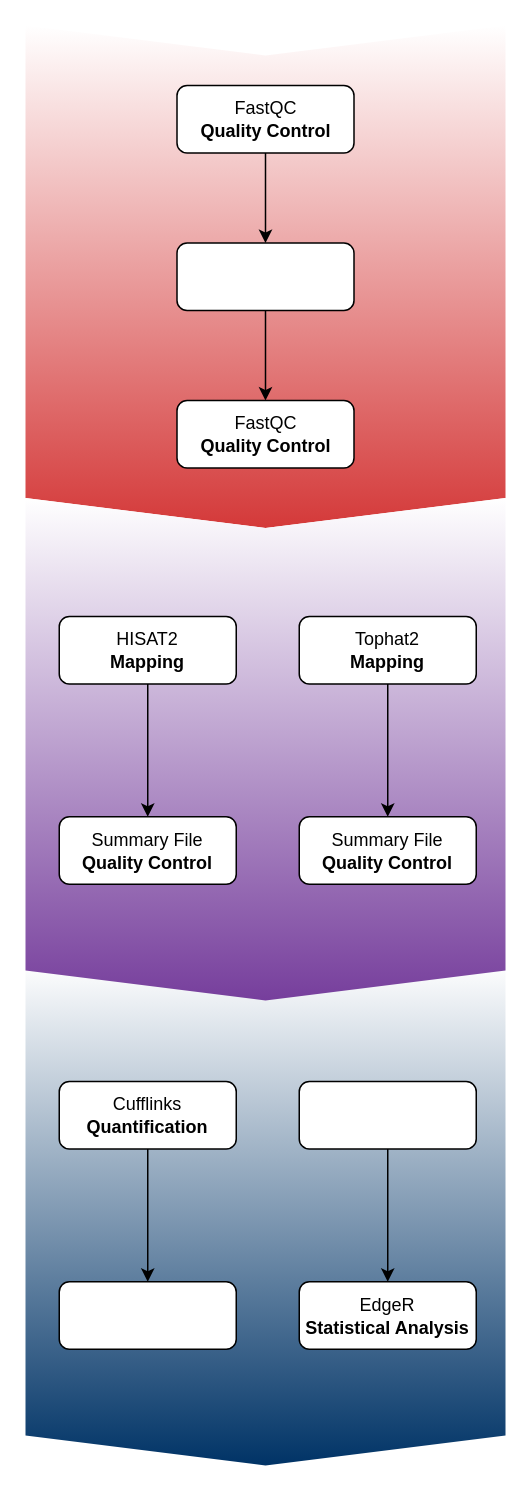
This 531x1491 diagram has some shape labels left out. Each missing label, with the centre of its shape:
"Cuffdiff Statistical Analysis" belongs at (147,1314).
"HTSeq-count Quantification" belongs at (387,1114).
"Trimmomatic Adapter Trimming" belongs at (265,276).
